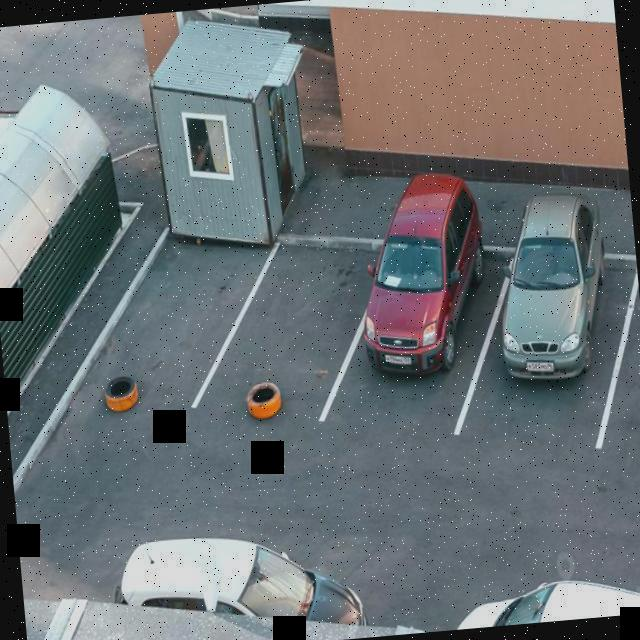car: (480, 202, 610, 443), (344, 206, 488, 412), (209, 248, 361, 432), (96, 236, 228, 416)
free: (610, 239, 640, 455)
